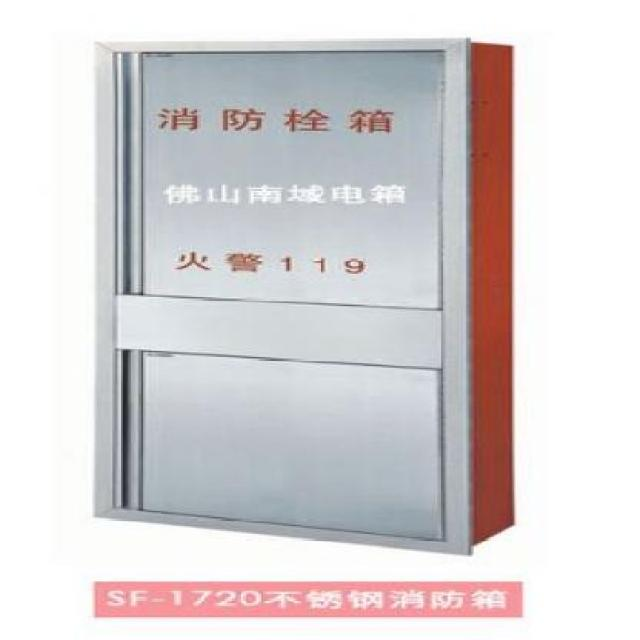firehydrant: (84, 31, 528, 559)
